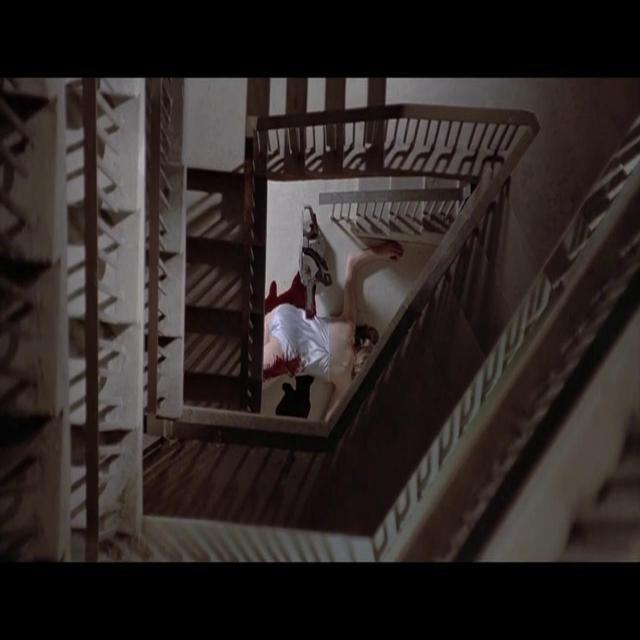flood: (256, 350, 298, 386)
